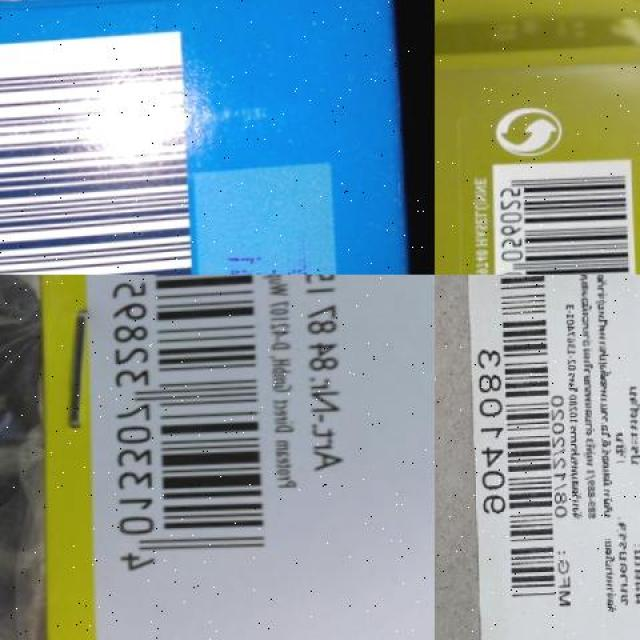Barcode: (87, 275, 269, 585), (0, 33, 195, 275), (476, 275, 560, 617), (490, 158, 638, 274)
